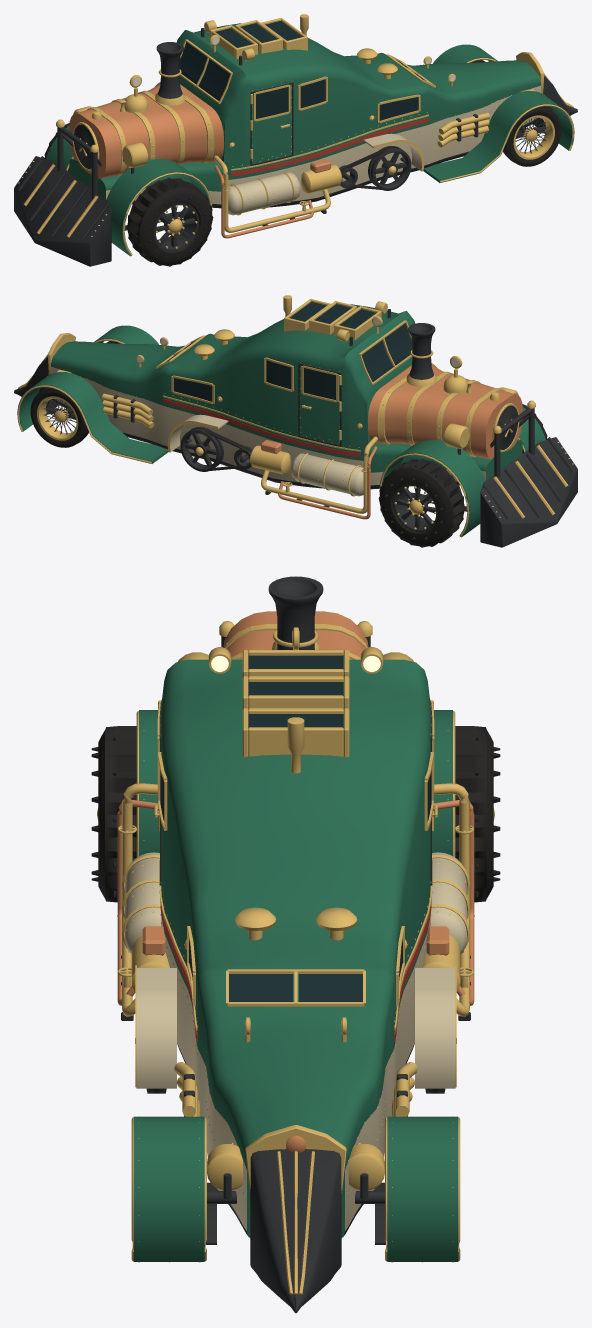
Rendered from boilerfang_blueprint.glb.
3 renders of one model, top to bottom at view 1: azimuth 30°, elevation 25°; view 2: azimuth 150°, elevation 25°; view 3: azimuth 270°, elevation 25°, orthographic. The views are drawn at different scales.
Visible parts, largest first — view 1: Body_Hull.001, Detail_Brass, Body_BoilerBarrel.001, Body_PlowTruck.001, Wheel_Truck_Tire_-1.001, Body_FenderSpeedster_-.001, Detail_Iron, Body_FenderTruck_-.001, Body_SideTank_-1.001, Body_Smokestack.001, Prop_MidDrive_Flywheel_-1.001, Wheel_Coupe_Tire_-1.001 (+21 smaller); view 2: Body_Hull.001, Detail_Brass, Body_BoilerBarrel.001, Body_PlowTruck.001, Wheel_Truck_Tire_+1.001, Body_FenderSpeedster_+.001, Detail_Iron, Body_FenderTruck_+.001, Body_SideTank_+1.001, Body_Smokestack.001, Prop_MidDrive_Flywheel_+1.001, Wheel_Coupe_Tire_+1.001 (+21 smaller); view 3: Body_Hull.001, Detail_Brass, Body_ProwSpeedster.001, Body_FenderSpeedster_-.001, Body_FenderSpeedster_+.001, Wheel_Truck_Tire_-1.001, Wheel_Truck_Tire_+1.001, Prop_MidDrive_Guard_-1.001, Prop_MidDrive_Guard_+1.001, Detail_Copper, Detail_Iron, Body_BoilerBarrel.001 (+10 smaller).
Boxes of the visible parts, x1,y1,x2,y2 form: Body_Hull.001: [69, 23, 540, 208]; Detail_Brass: [18, 14, 574, 255]; Body_BoilerBarrel.001: [69, 84, 223, 178]; Body_PlowTruck.001: [14, 156, 111, 266]; Wheel_Truck_Tire_-1.001: [126, 177, 213, 266]; Body_FenderSpeedster_-.001: [423, 91, 574, 182]; Detail_Iron: [18, 28, 545, 238]; Body_FenderTruck_-.001: [106, 158, 212, 256]; Body_SideTank_-1.001: [221, 172, 300, 215]; Body_Smokestack.001: [155, 42, 185, 105]; Prop_MidDrive_Flywheel_-1.001: [368, 145, 411, 190]; Wheel_Coupe_Tire_-1.001: [503, 106, 561, 166]; Body_Hull.001: [51, 304, 522, 489]; Detail_Brass: [17, 295, 573, 536]; Body_BoilerBarrel.001: [368, 365, 522, 459]; Body_PlowTruck.001: [480, 437, 577, 547]; Wheel_Truck_Tire_+1.001: [378, 458, 465, 547]; Body_FenderSpeedster_+.001: [17, 372, 168, 463]; Detail_Iron: [46, 309, 573, 519]; Body_FenderTruck_+.001: [379, 439, 485, 537]; Body_SideTank_+1.001: [291, 453, 370, 496]; Body_Smokestack.001: [406, 323, 436, 386]; Prop_MidDrive_Flywheel_+1.001: [180, 426, 223, 471]; Wheel_Coupe_Tire_+1.001: [30, 387, 88, 447]; Body_Hull.001: [161, 659, 430, 1237]; Detail_Brass: [117, 621, 474, 1294]; Body_ProwSpeedster.001: [250, 1149, 341, 1313]; Body_FenderSpeedster_-.001: [133, 1116, 204, 1261]; Body_FenderSpeedster_+.001: [387, 1116, 458, 1261]; Wheel_Truck_Tire_-1.001: [91, 726, 136, 902]; Wheel_Truck_Tire_+1.001: [455, 726, 500, 902]; Prop_MidDrive_Guard_-1.001: [136, 968, 176, 1088]; Prop_MidDrive_Guard_+1.001: [415, 968, 455, 1088]; Detail_Copper: [117, 800, 474, 1153]; Detail_Iron: [121, 636, 470, 1244]; Body_BoilerBarrel.001: [223, 611, 368, 659].
Size of the model in its own units: 4.95 by 1.53 by 1.61.
